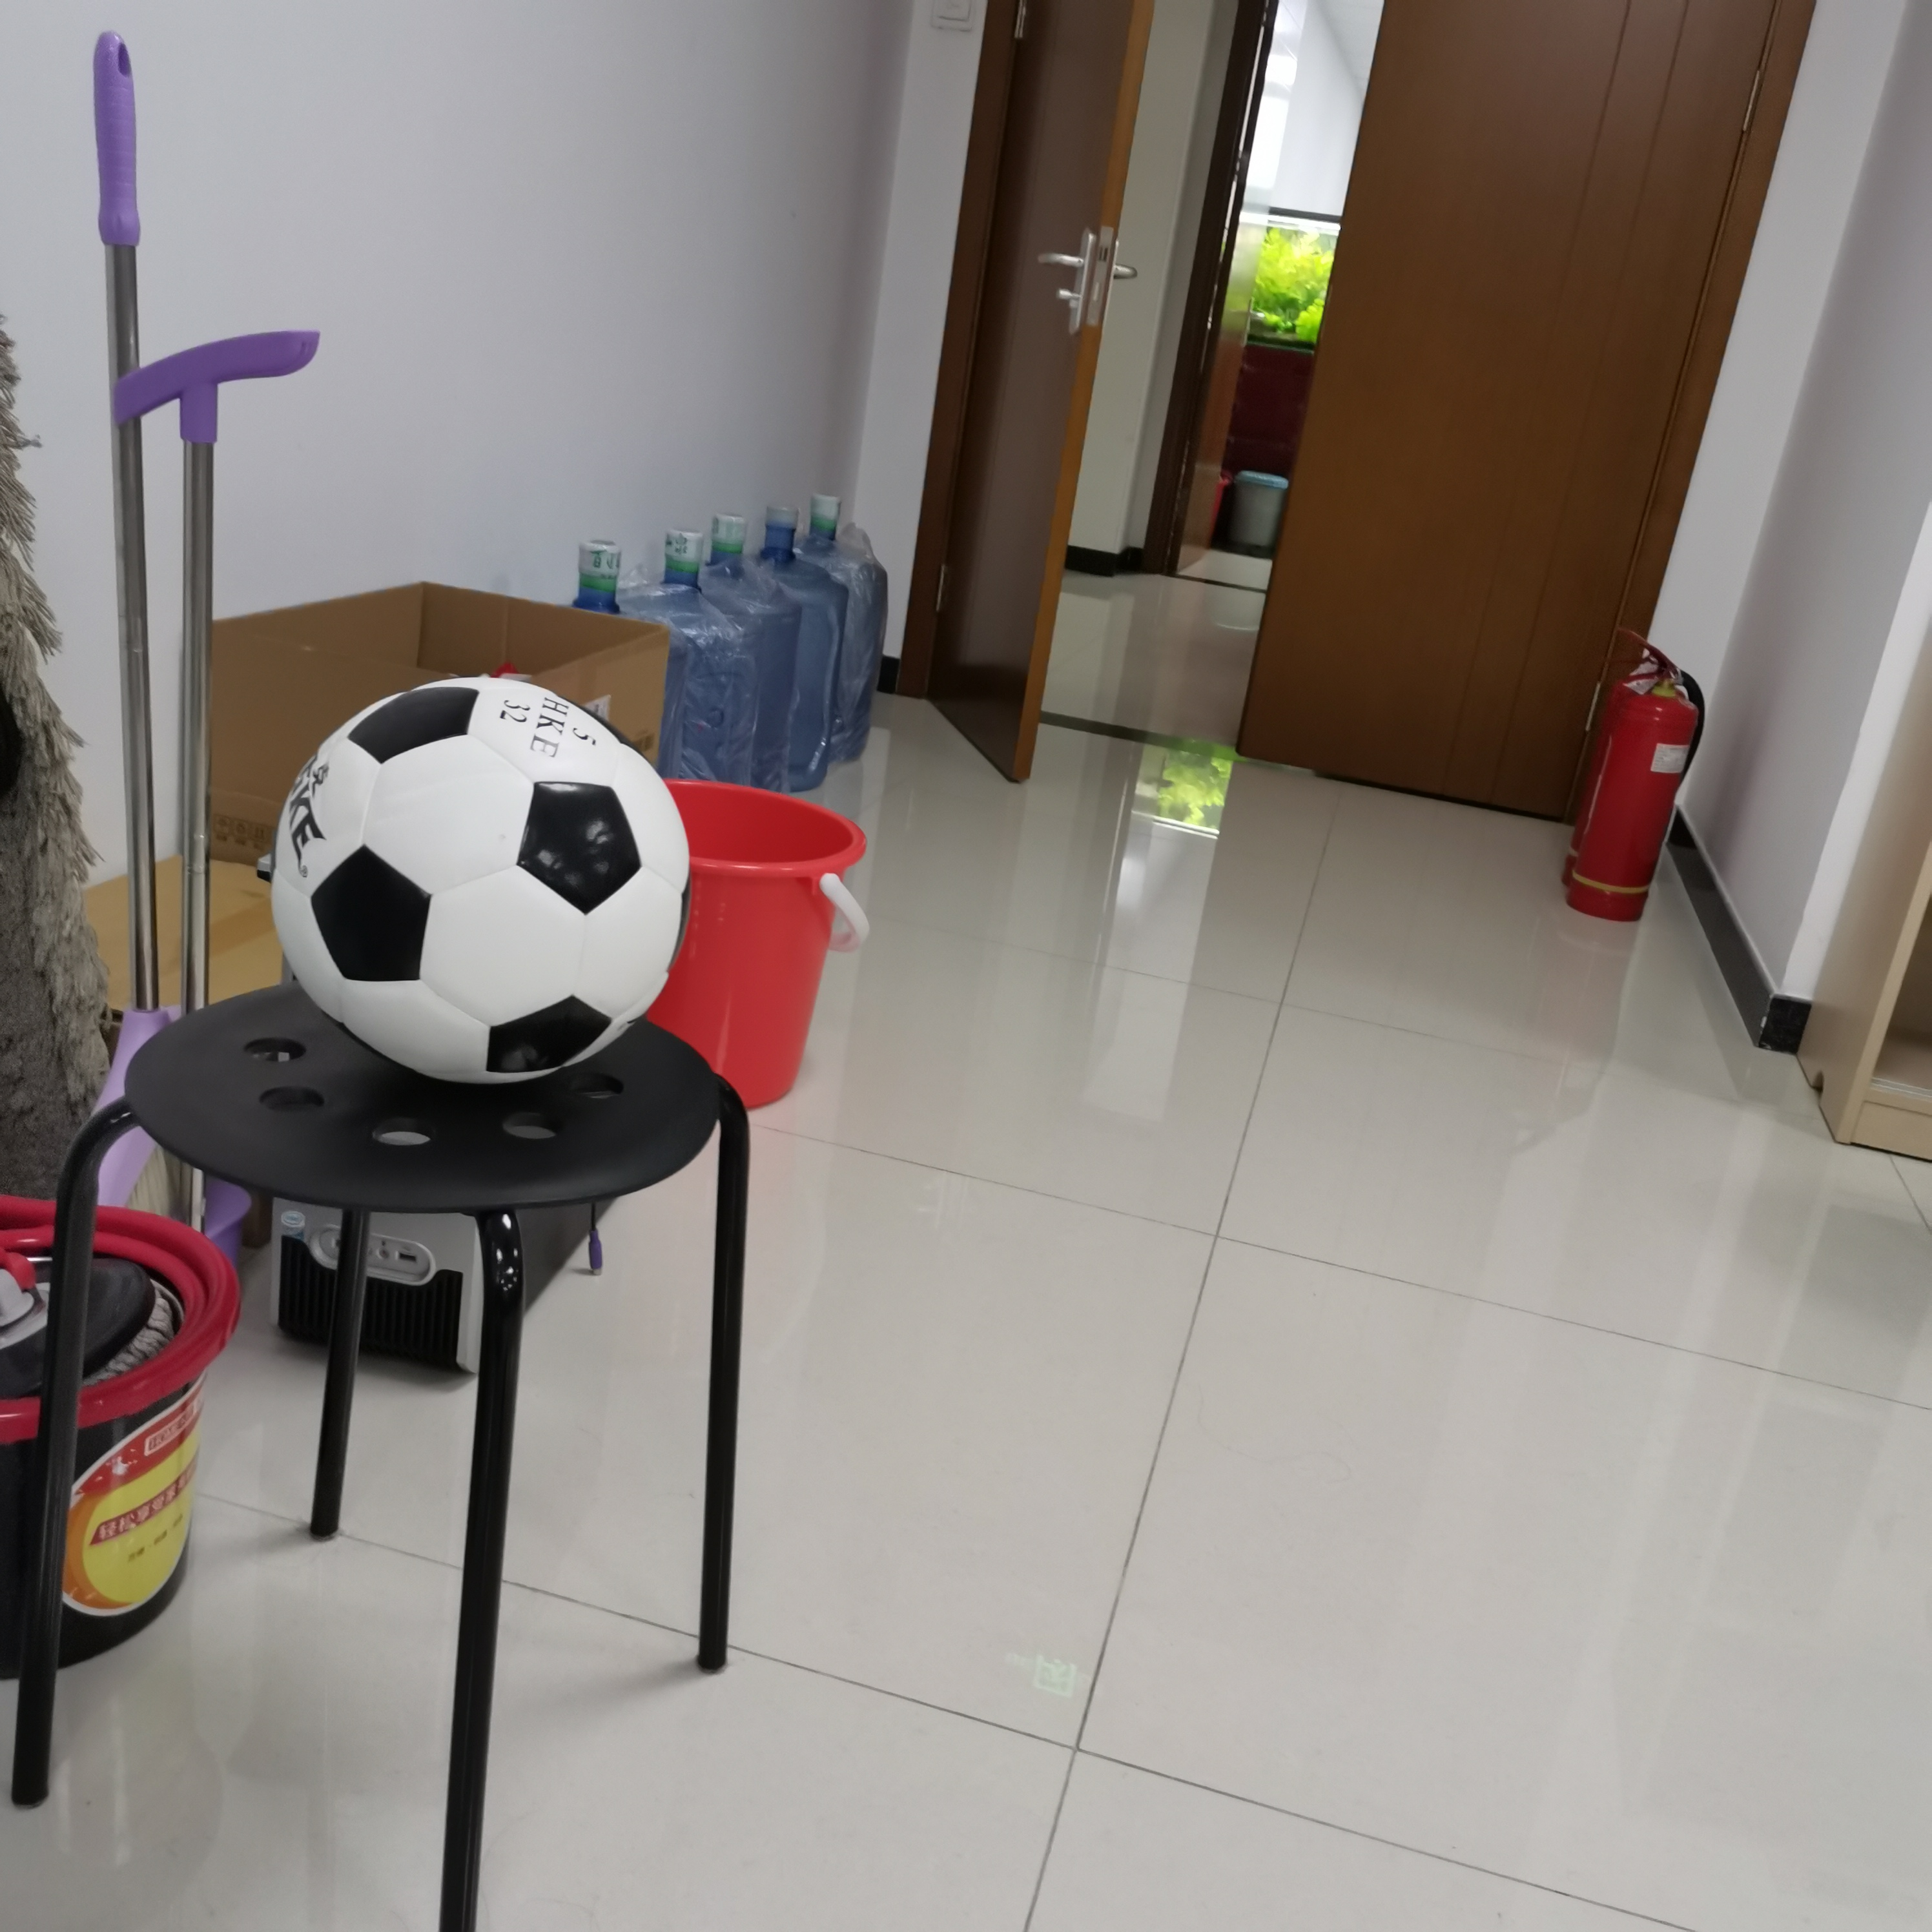football: (272, 676, 694, 1085)
